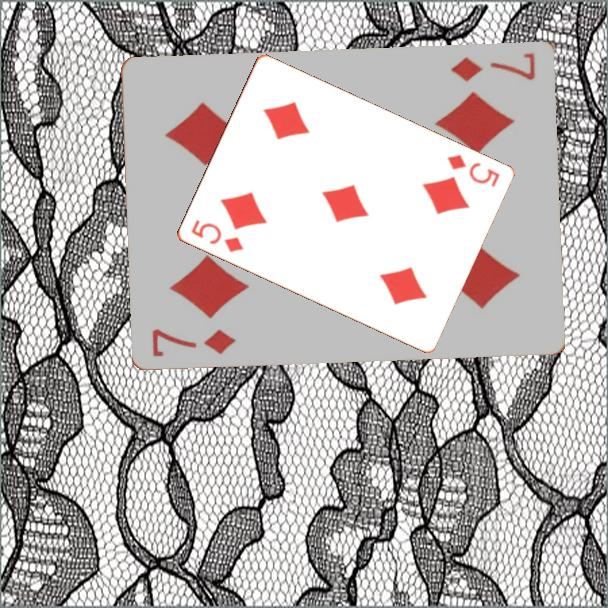d05: (187, 216, 246, 255), (443, 151, 502, 190)
d07: (448, 48, 539, 84), (149, 325, 240, 359)
